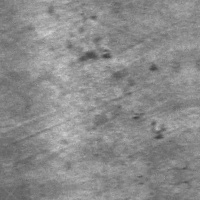rolled-in_scale: (110, 56, 168, 143), (62, 7, 112, 63)
